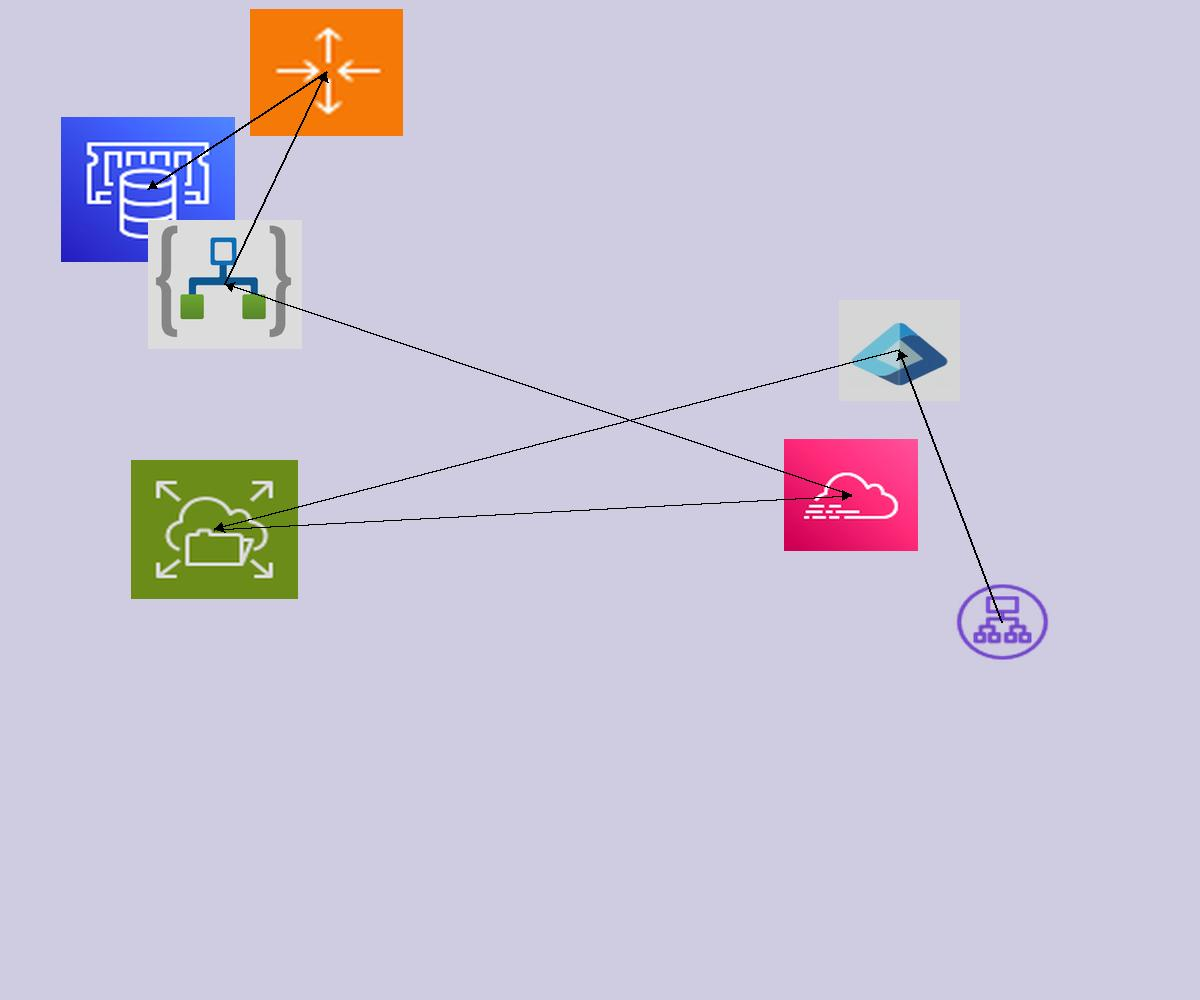AWS-CloudTrail: (784, 439, 918, 551)
AWS-EFS: (131, 460, 298, 599)
AWS-ElastiCache: (61, 117, 235, 262)
AWS-Res_Elastic-Load-Balancing_Application-Load-Balancer: (953, 581, 1052, 663)
AWS-Scaling-group: (250, 9, 403, 136)
Azure_integration-204-Logic-Apps: (148, 220, 302, 349)
Azure_microsoft_entra: (839, 300, 960, 401)
